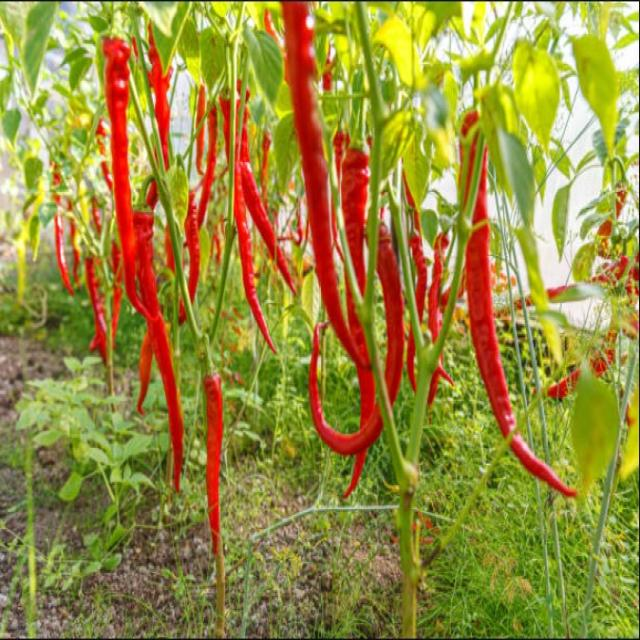Ripe: (465, 148, 576, 497), (282, 2, 369, 366), (132, 212, 184, 490), (104, 37, 150, 317), (234, 101, 276, 352), (240, 112, 296, 293), (309, 328, 382, 454), (376, 223, 404, 403), (341, 148, 369, 295), (204, 373, 222, 553), (198, 107, 216, 227), (346, 275, 368, 357), (184, 191, 200, 300), (358, 365, 375, 426), (345, 451, 364, 495)
